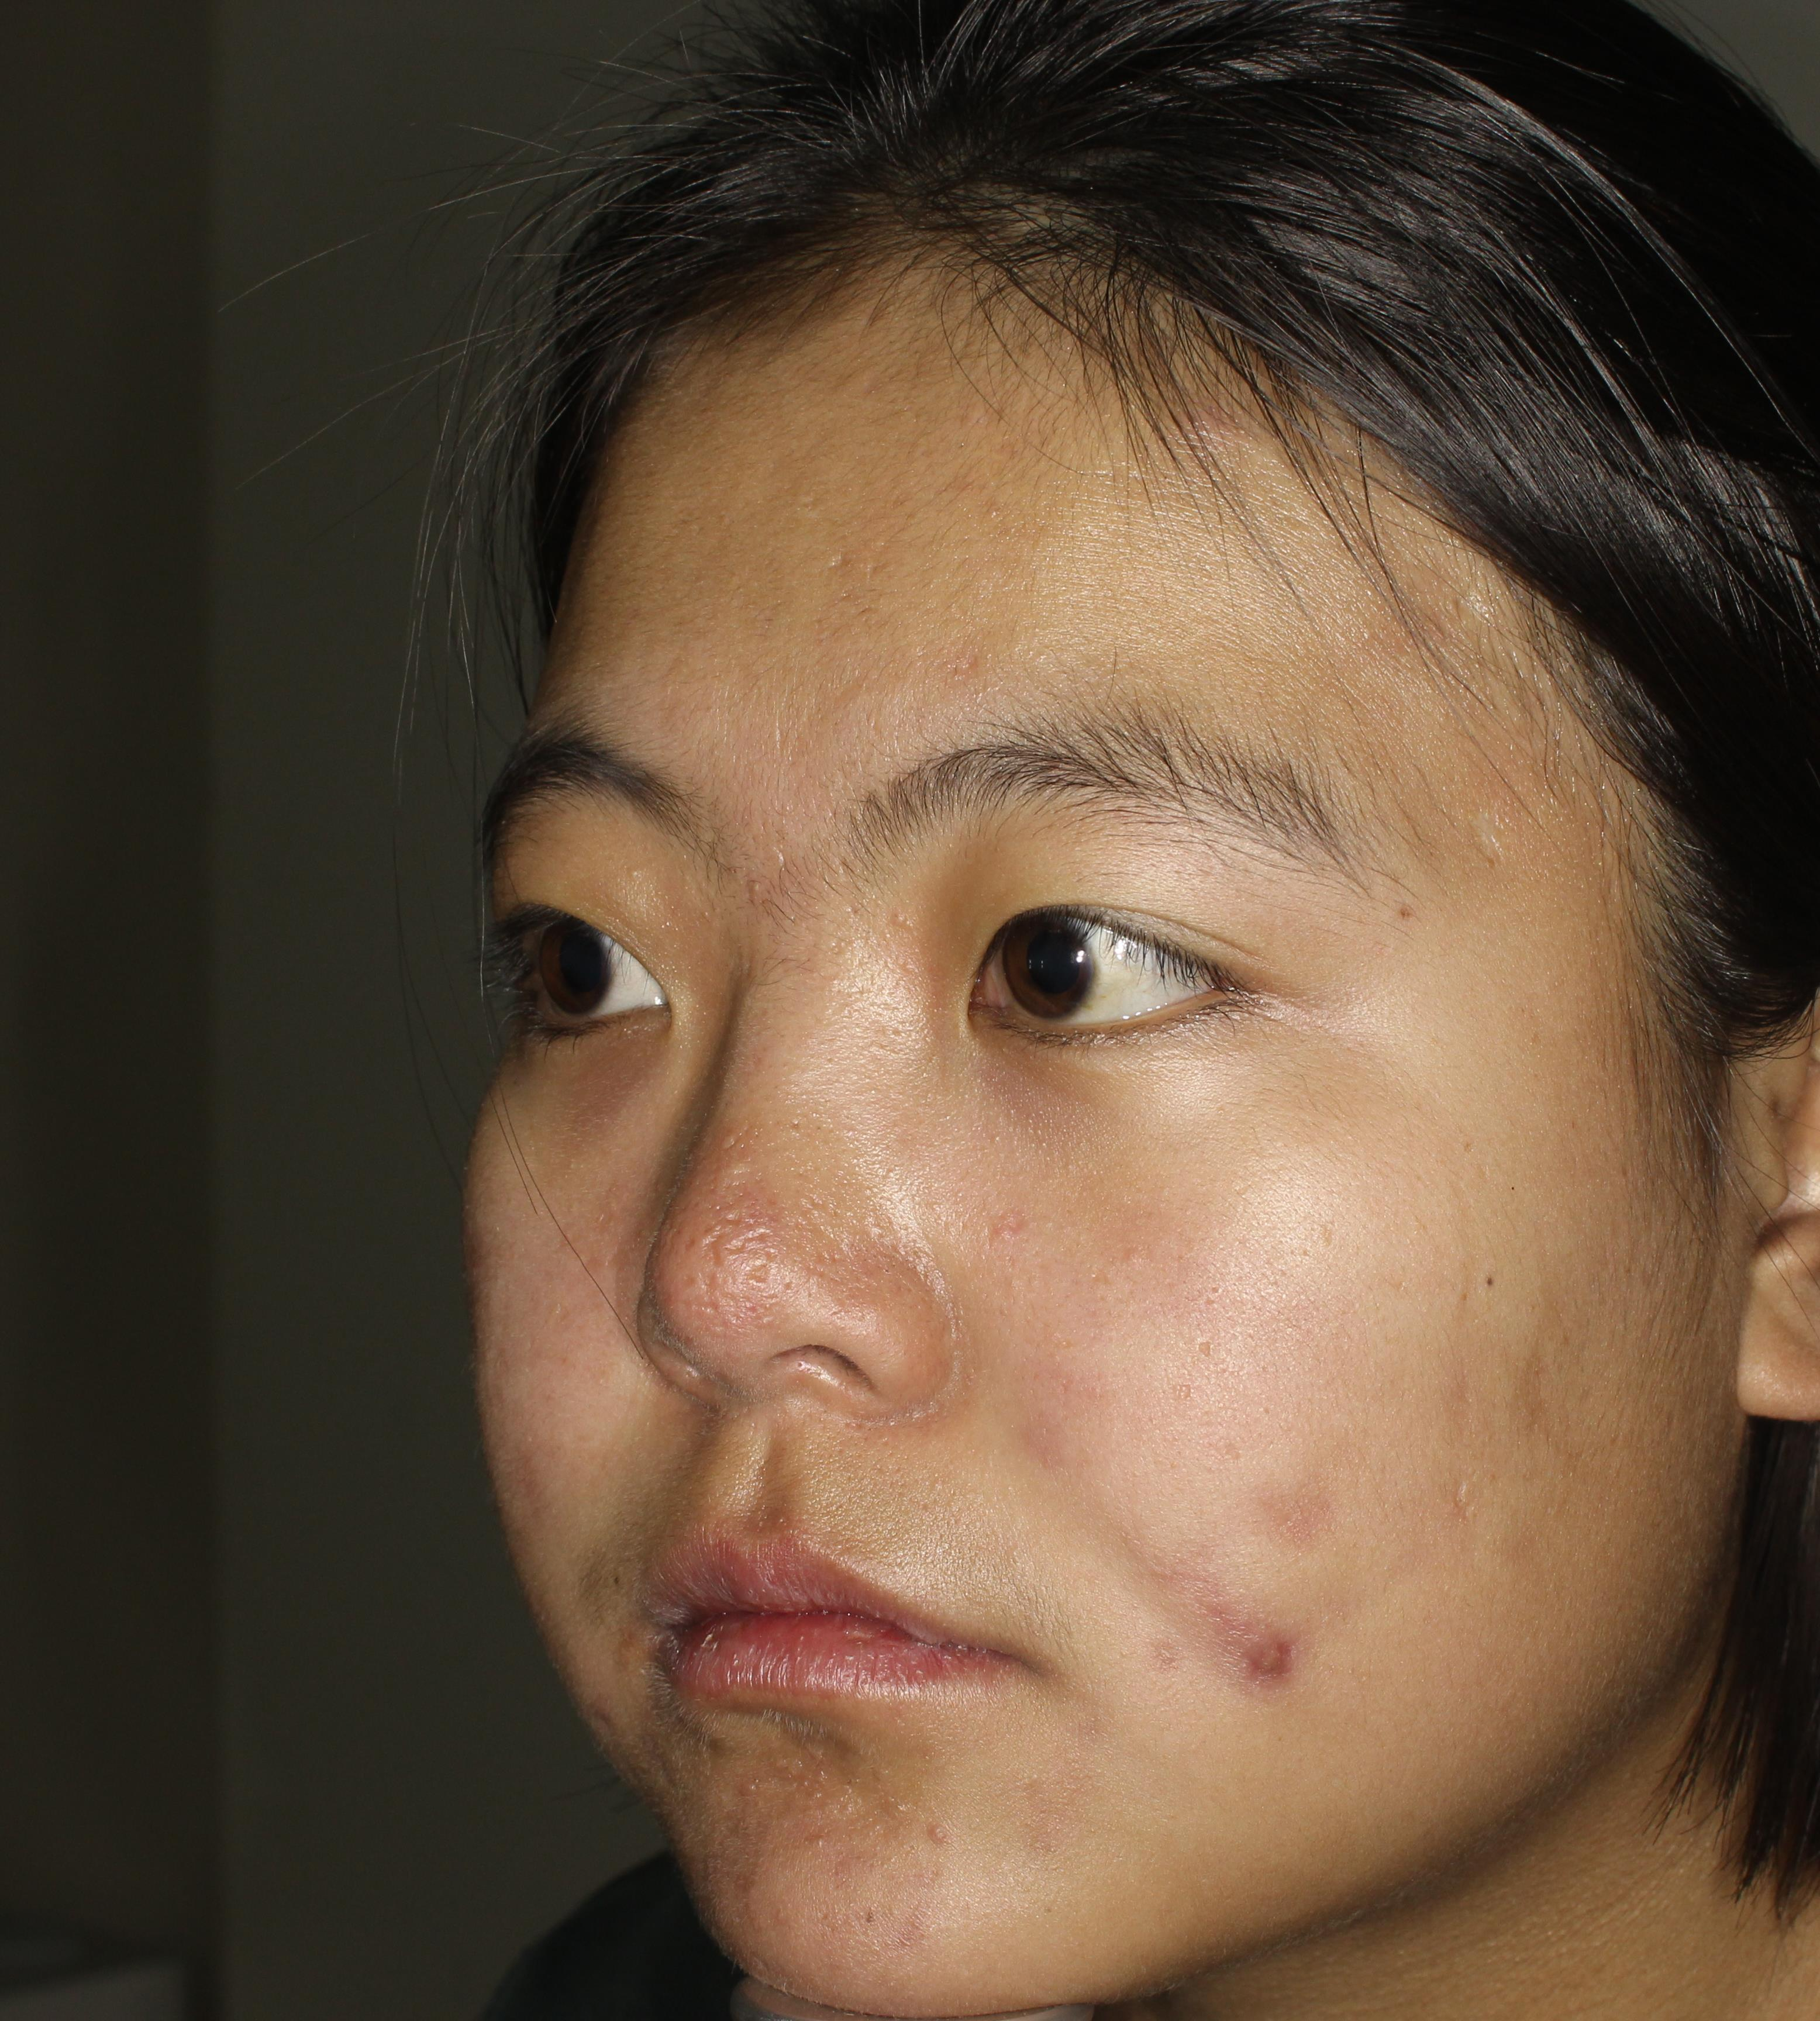fore: (1210, 1608, 1340, 1724)
